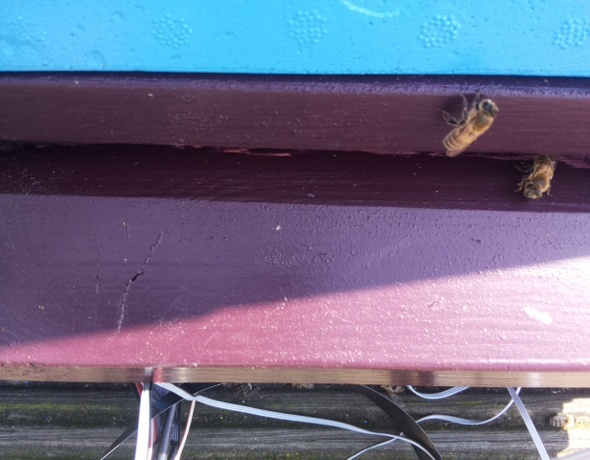no_pollen: (440, 93, 502, 159), (510, 149, 558, 206)
